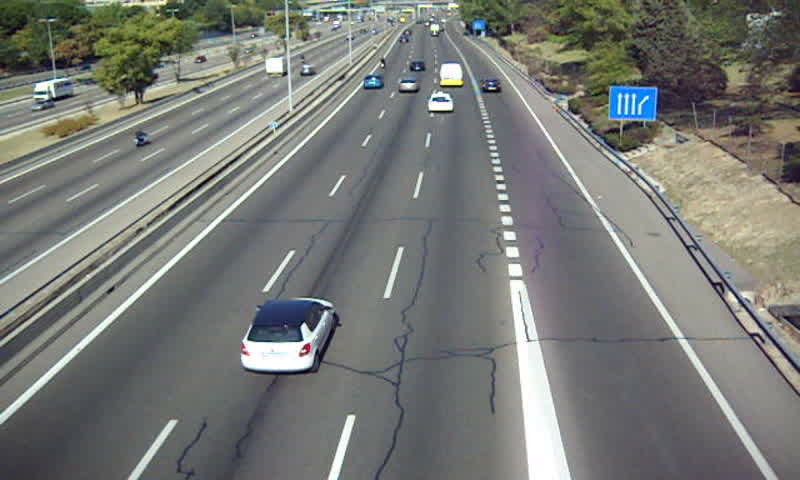car: (239, 298, 337, 371), (426, 92, 455, 113), (397, 78, 419, 94), (479, 79, 501, 93), (362, 76, 381, 92)
van: (438, 64, 463, 88)
